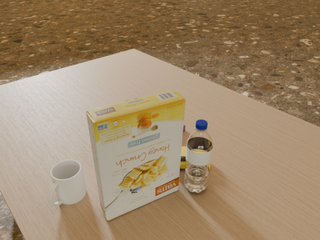bottle: (184, 120, 213, 193)
box: (86, 90, 185, 220)
cup: (48, 160, 86, 206)
